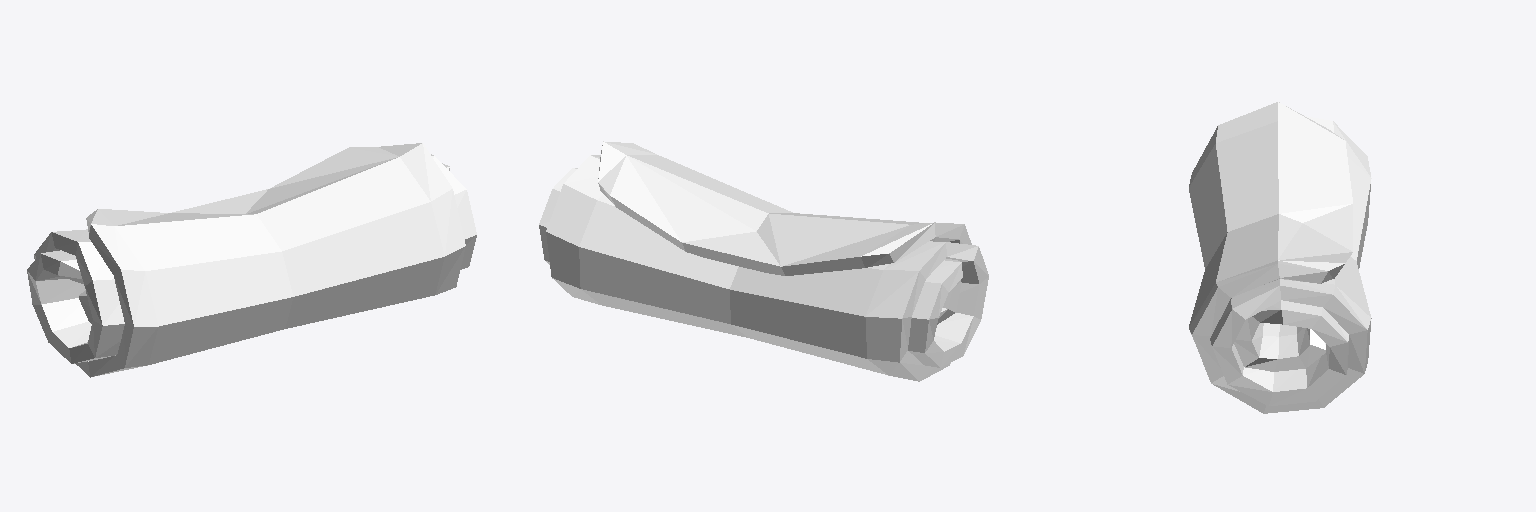
File: pancake.obj
3 views of the same model, side by side, from view 1: azimuth 30°, elevation 25°; view 2: azimuth 150°, elevation 25°; view 3: azimuth 270°, elevation 25° (orthographic).
Parts seen in each view (by area): view 1: pancake; view 2: pancake; view 3: pancake.
Boxes of the visible parts, x1=… form: pancake: x1=27, y1=143, x2=476, y2=377; pancake: x1=539, y1=141, x2=988, y2=381; pancake: x1=1189, y1=102, x2=1371, y2=413.
Size of the model in its own units: 10.09 by 3.6 by 4.07.